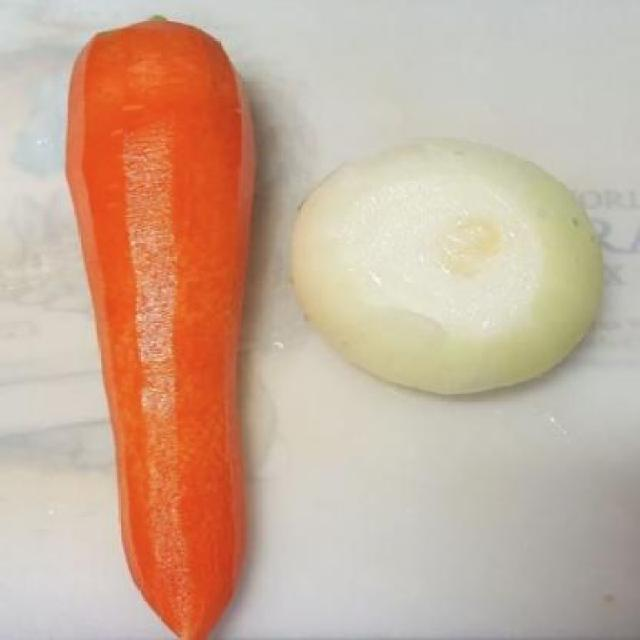carrot: (50, 13, 281, 636)
onion: (287, 130, 613, 413)
